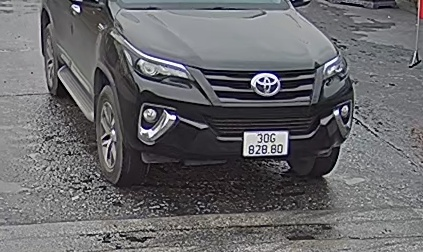vehicle plate: (239, 128, 293, 160)
